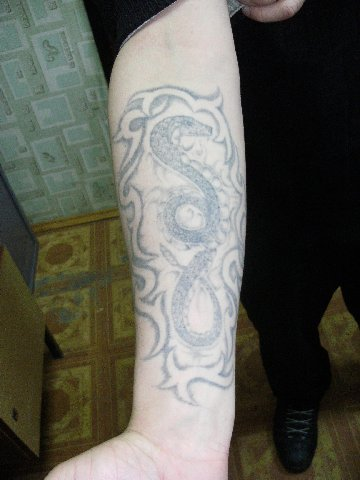tatu7_zmeya: (138, 88, 228, 358)
